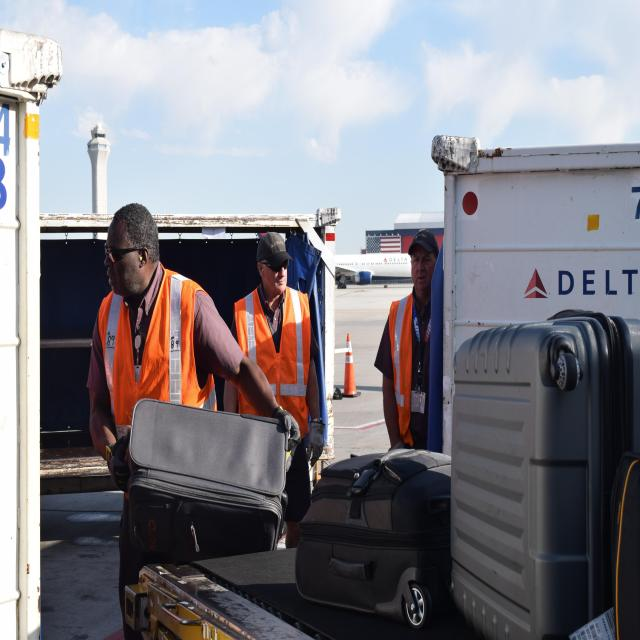Vest: (90, 264, 225, 460), (224, 276, 317, 442), (385, 286, 463, 452)
